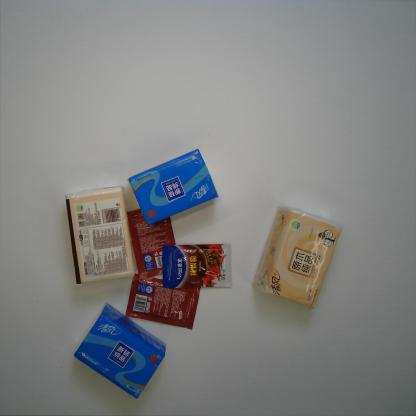Seasoner: (124, 273, 202, 331), (124, 205, 179, 281), (160, 241, 233, 289)
Tissue: (251, 202, 344, 312), (71, 302, 168, 400), (61, 183, 137, 286), (126, 147, 219, 227)
